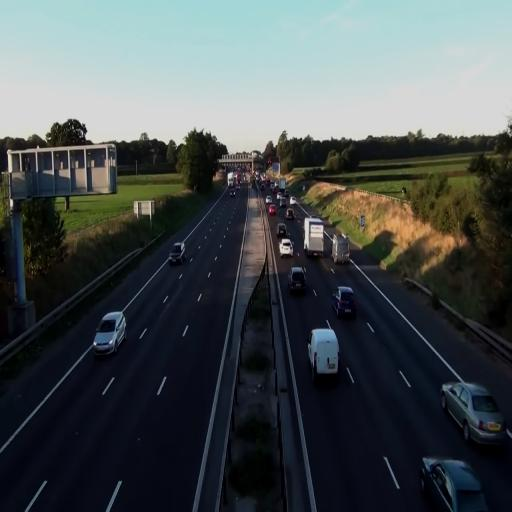vehicle: (440, 380, 504, 448), (420, 456, 489, 512), (308, 326, 339, 382), (93, 310, 127, 356), (304, 218, 324, 260), (332, 285, 356, 319), (304, 218, 324, 258), (289, 265, 307, 296), (334, 233, 350, 265), (169, 242, 184, 265), (278, 238, 294, 257)
